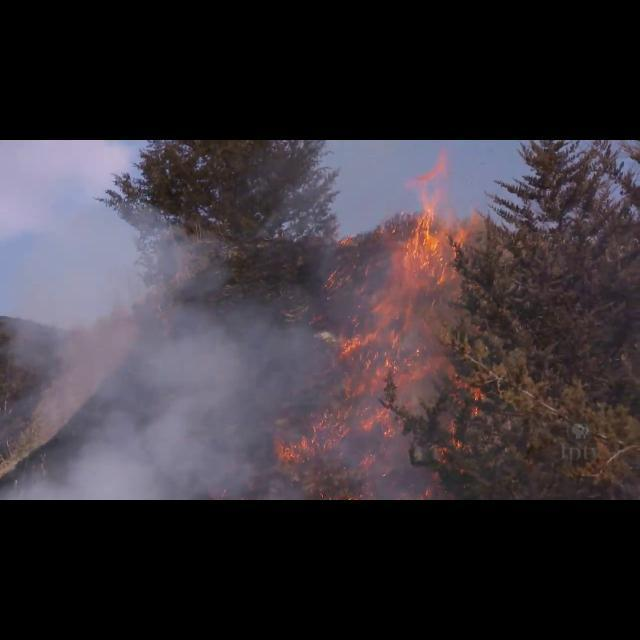Fire: (272, 148, 486, 500)
Smoke: (0, 135, 302, 498)
